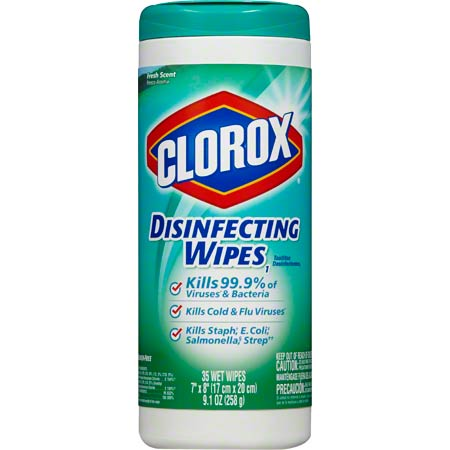Wipes: (133, 1, 317, 449)
